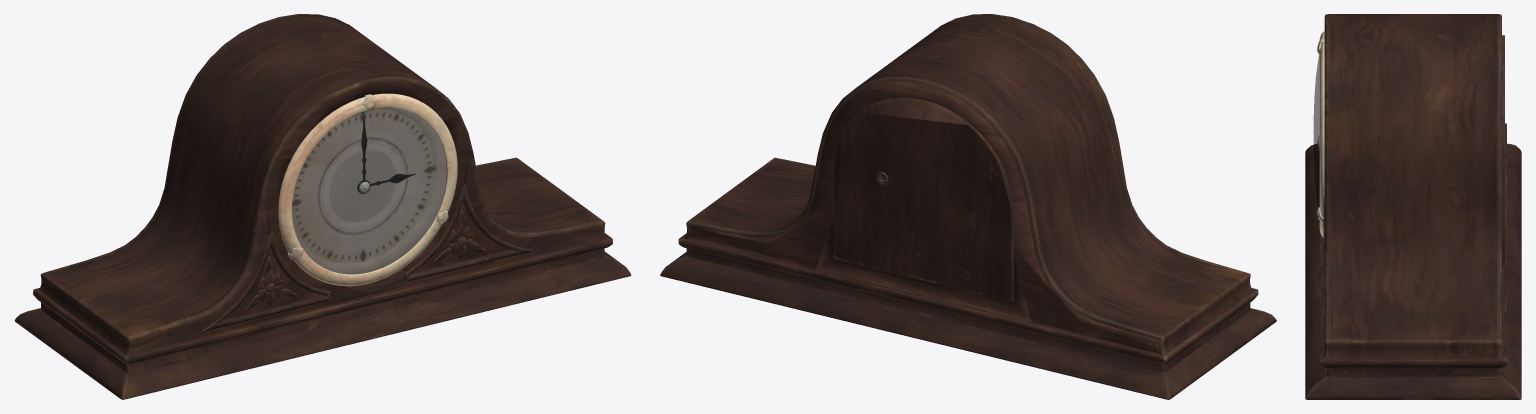
The model's file is mantel_clock_01.glb.
The picture shows the model from 3 angles, left to right: view 1: azimuth 30°, elevation 25°; view 2: azimuth 150°, elevation 25°; view 3: azimuth 270°, elevation 25°; orthographic projection.
Visible parts, largest first — view 1: mantel_clock_01, mantel_clock_01_glass; view 2: mantel_clock_01; view 3: mantel_clock_01, mantel_clock_01_glass.
Part boxes in pixels (x1=…): mantel_clock_01: x1=14, y1=14, x2=631, y2=399; mantel_clock_01_glass: x1=292, y1=107, x2=446, y2=274; mantel_clock_01: x1=660, y1=14, x2=1276, y2=399; mantel_clock_01: x1=1305, y1=14, x2=1521, y2=399; mantel_clock_01_glass: x1=1313, y1=54, x2=1319, y2=207.
Bounding box in the file's own units: 0.3424 × 0.1605 × 0.1261.
Materials: 2 (2 with a texture image).
